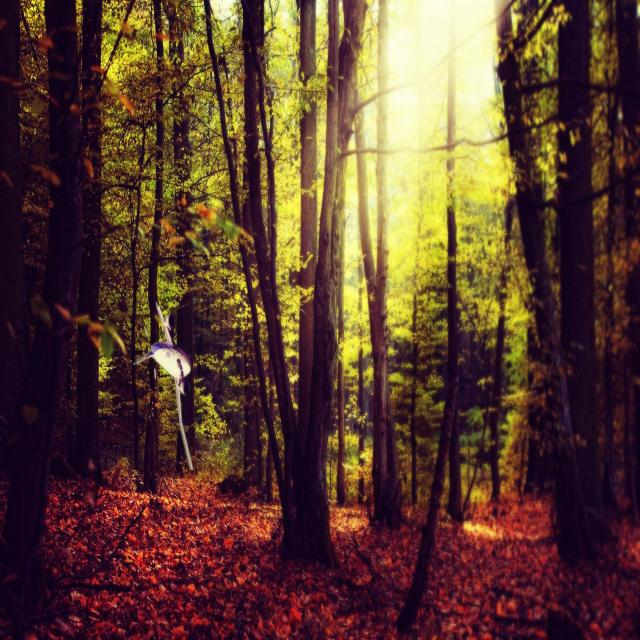airplane: (132, 302, 194, 472)
